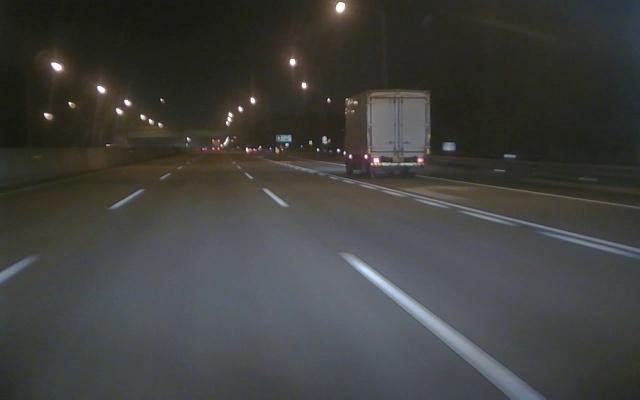lane: (256, 183, 547, 399), (313, 169, 640, 262), (1, 191, 141, 284), (427, 176, 640, 210)
